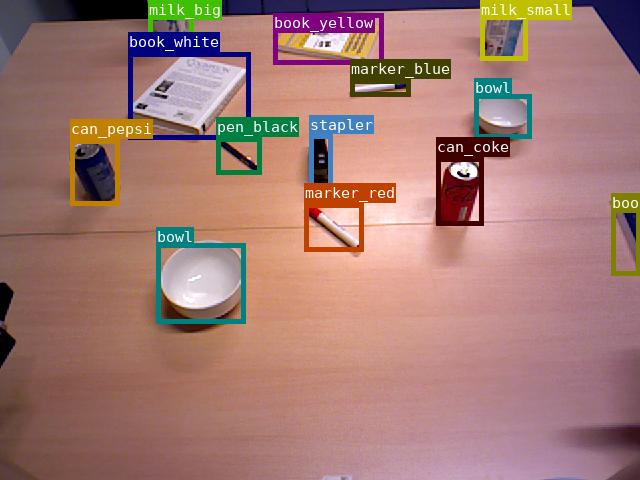book_blue: (611, 193, 640, 275)
book_white: (128, 52, 250, 139)
book_yellow: (273, 13, 383, 64)
bowl: (156, 243, 245, 323), (474, 94, 531, 138)
can_coke: (436, 157, 483, 225)
can_pepsi: (70, 139, 119, 205)
marker_blue: (350, 79, 410, 96)
marker_red: (304, 203, 363, 251)
milk_big: (148, 0, 193, 41)
milk_small: (480, 0, 527, 60)
pen_black: (216, 137, 261, 174)
stapler: (309, 134, 332, 193)
